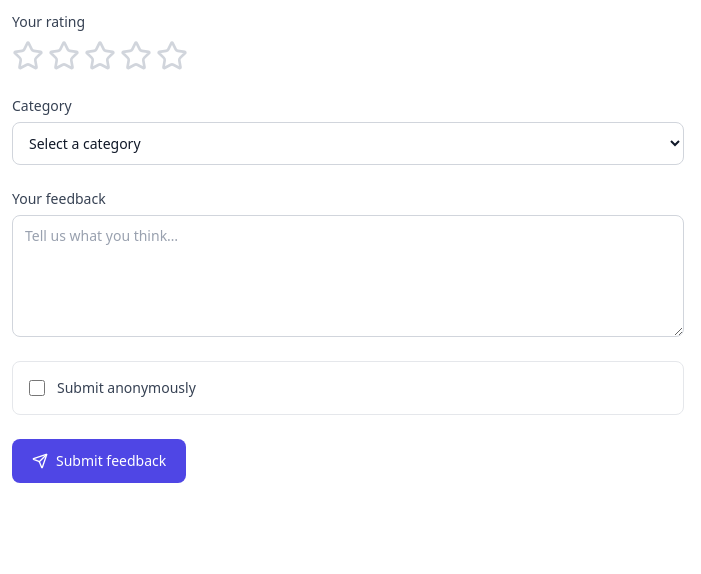
Test: FeedbackForm › shows validation errors when required fields are missing
Step 1. Click the button "Submit feedback" → {"x": 99, "y": 461}, box [12,439,186,483]
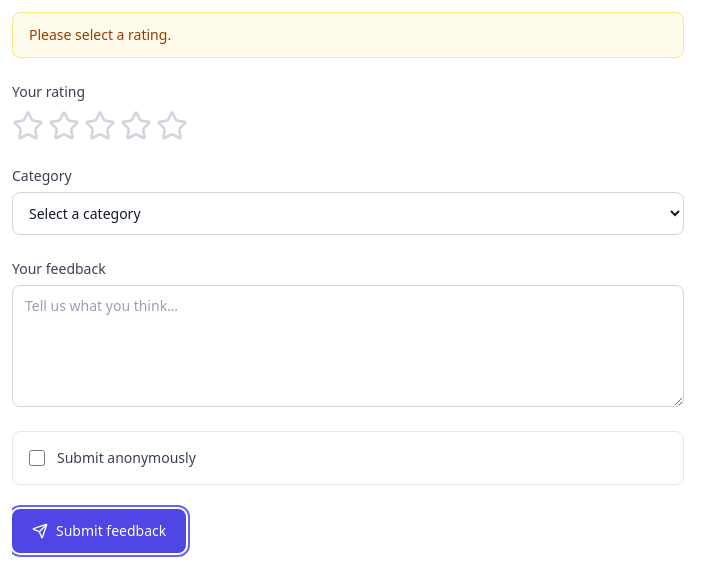
Check: the text "Please select a rating." is shown, box [12,12,684,58]
